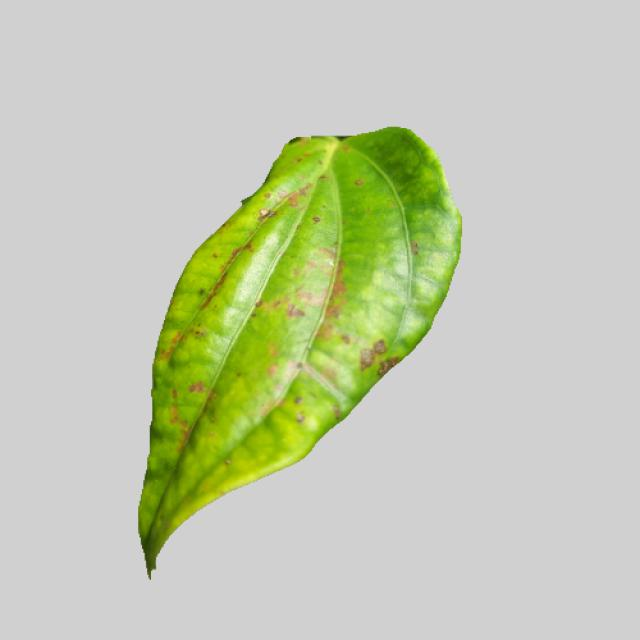yellow-mottle-virus: (118, 130, 492, 588)
